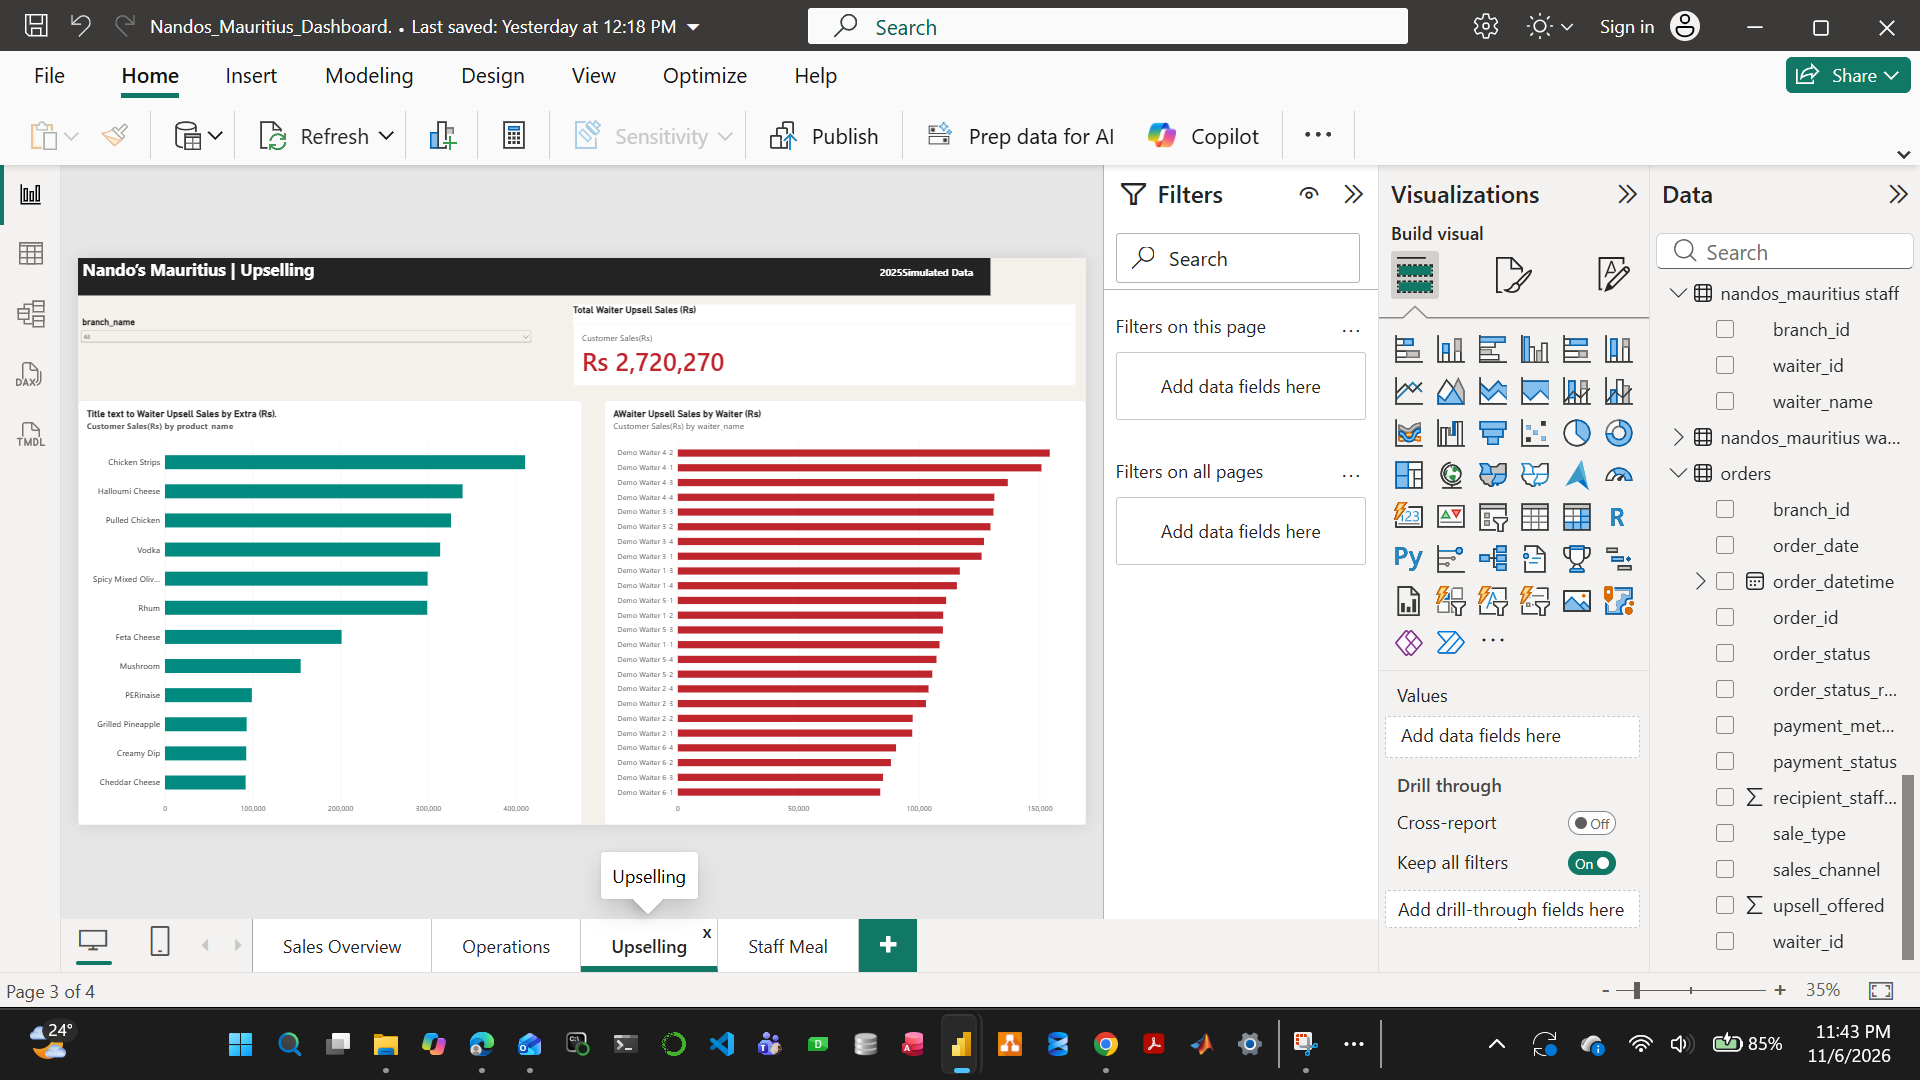

What the dashboard file says about the page in this screenshot:
{"tool":"powerbi","page":{"name":"Upselling","canvas":[1920,1080],"ordinal":2},"visuals":[{"type":"clusteredBarChart","title":"Title text to Waiter Upsell Sales by Extra (Rs).","fields":{"Category":["nandos_mauritius products.product_name"],"Y":["Calendar.Customer Sales(Rs)"]},"box":[0,271.4,960,808.6],"z":0},{"type":"cardVisual","title":"Total Waiter Upsell Sales (Rs)","fields":{"Data":["Calendar.Customer Sales(Rs)"]},"box":[942.9,88.6,957.1,154.3],"z":1000},{"type":"clusteredBarChart","title":"AWaiter Upsell Sales by Waiter (Rs)","fields":{"Category":["nandos_mauritius staff.waiter_name"],"Y":["Calendar.Customer Sales(Rs)"]},"box":[1002.9,271.4,917.1,808.6],"z":2000},{"type":"slicer","fields":{"Values":["nandos_mauritius branches.branch_name"]},"box":[0,111.4,868.6,82.9],"z":3000},{"type":"textbox","box":[0,0,1738.1,71.4],"z":4000}]}

Visuals, with their boxes on the page's 1920x1080 design canvas (x1, y1, x2, y2). These are canvas units, not pixel positions in the 1920x1080 screenshot, which may show the page scaled, cropped or inside an application window:
"Title text to Waiter Upsell Sales by Extra (Rs)." clusteredBarChart: BBox(0, 271, 960, 1080)
"Total Waiter Upsell Sales (Rs)" cardVisual: BBox(943, 89, 1900, 243)
"AWaiter Upsell Sales by Waiter (Rs)" clusteredBarChart: BBox(1003, 271, 1920, 1080)
slicer - nandos_mauritius branches.branch_name: BBox(0, 111, 869, 194)
textbox: BBox(0, 0, 1738, 71)
